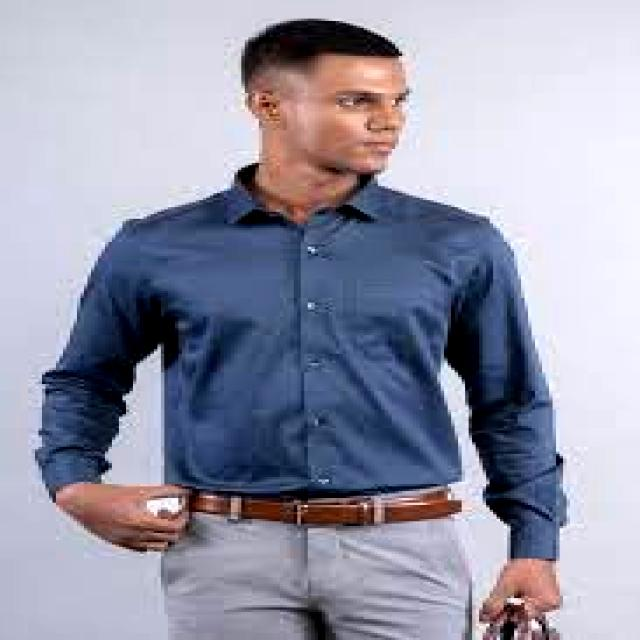face: (256, 54, 409, 174)
lower-wear: (161, 512, 475, 639)
top-wear: (35, 163, 566, 558)
